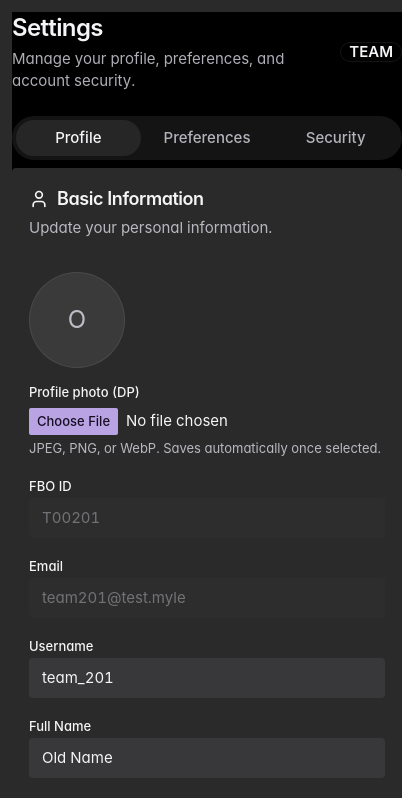
SettingsPage profile › saves only the field the member changed
Replace the text in the field labelled "Full Name" with "New Name ". click: (207, 758)
box: [29, 738, 385, 778]
(page scrolled)
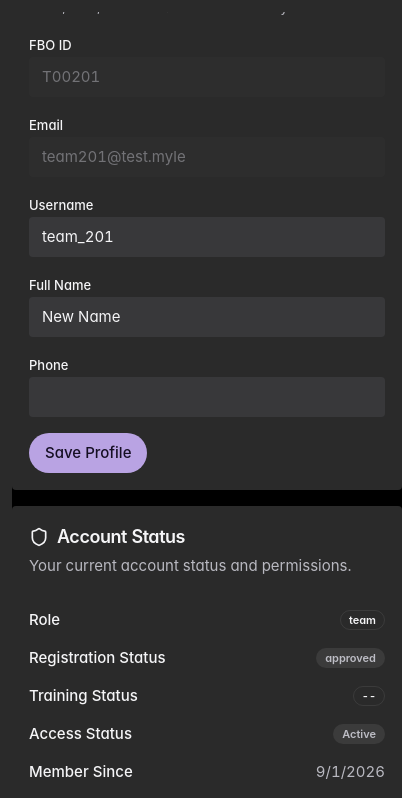
Click the button "Save Profile". click: (88, 453)
box: [29, 433, 148, 473]
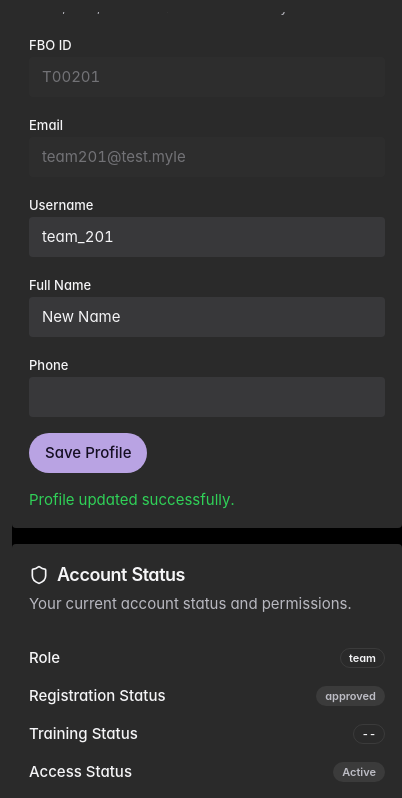
Expected: the text "Profile updated successfully." is shown, [29, 490, 234, 509]
